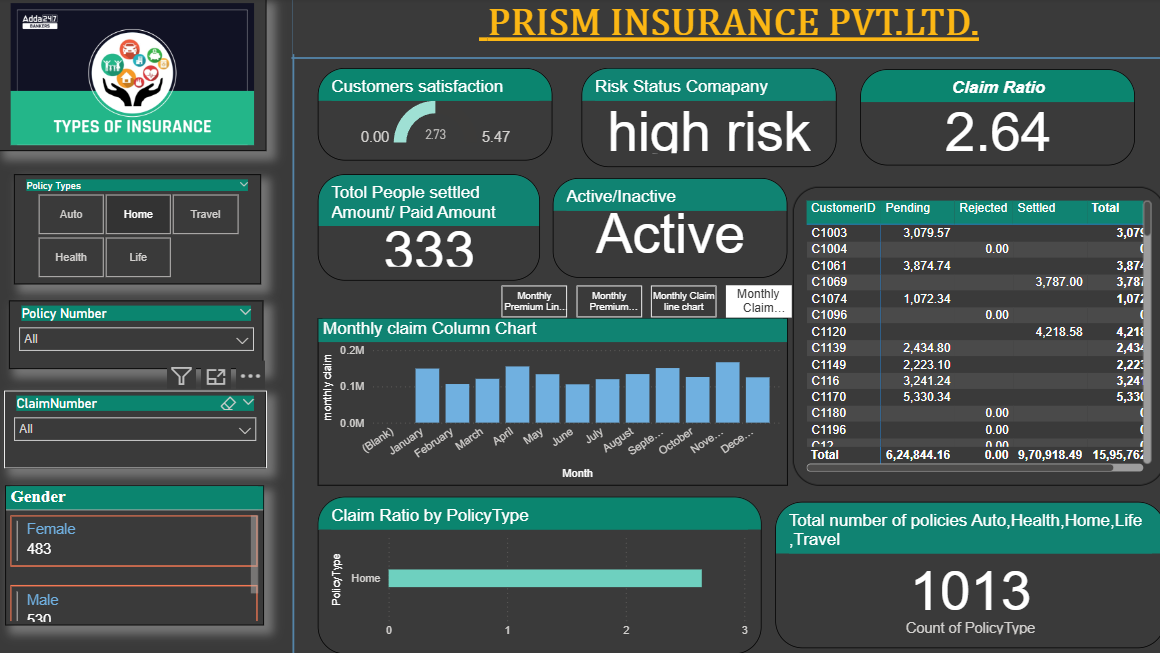

This screenshot's page, from the dashboard's own definition file:
{"tool":"powerbi","page":{"name":"Page 2","canvas":[1280,720],"ordinal":1},"visuals":[{"type":"image","box":[0,0,293.6,168.2],"z":0},{"type":"multiRowCard","title":"Gender ","fields":{"Values":["InsuranceData (1).Gender","CountNonNull(InsuranceData (1).Gender)"]},"box":[7.1,534.5,283.7,153.9],"z":1000},{"type":"shape","box":[181.1,0,284,720.4],"z":2000},{"type":"textbox","box":[322.5,0,957.8,61.7],"z":3000},{"type":"barChart","fields":{"Y":["InsuranceData (1).Claim Ratio"],"Category":["InsuranceData (1).PolicyType"]},"box":[349.9,547.5,487.1,172.9],"z":4000},{"type":"card","title":"Claim Ratio","fields":{"Values":["InsuranceData (1).Claim Ratio"]},"box":[945.5,78.2,301.9,105.7],"z":5000},{"type":"card","title":"Risk Status Comapany","fields":{"Values":["InsuranceData (1).Risk Status"]},"box":[639.5,76.8,279.9,108.4],"z":6000},{"type":"gauge","title":" Customers satisfaction","fields":{"Y":["InsuranceData (1).avg satisfaction"]},"box":[349.9,76.8,258,101.5],"z":7000},{"type":"slicer","title":"Policy Types","fields":{"Values":["InsuranceData (1).PolicyType"]},"box":[17.1,193.9,270.8,121.2],"z":8000},{"type":"slicer","title":"Policy Number","fields":{"Values":["InsuranceData (1).PolicyNumber"]},"box":[11.4,332.1,279.4,75.5],"z":9000},{"type":"slicer","title":"Claim Number ","fields":{"Values":["InsuranceData (1).ClaimNumber"]},"box":[5.7,430.5,287.9,85.5],"z":10000},{"type":"clusteredColumnChart","title":"Monthly claim Column Chart ","fields":{"Category":["InsuranceData (1).ClaimDate.Variation.Date Hierarchy.Month"],"Y":["InsuranceData (1).monthly claim"]},"box":[349.9,351.3,516,183.9],"z":12000},{"type":"card","title":"Total number of policies Auto,Health,Home,Life ,Travel","fields":{"Values":["CountNonNull(InsuranceData (1).PolicyType)"]},"box":[852.1,553,428.1,160.5],"z":13000},{"type":"card","title":"Totol People settled Amount/ Paid Amount","fields":{"Values":["InsuranceData (1).total people Paid Amount"]},"box":[349.9,193.5,244.3,116.6],"z":14000},{"type":"bookmarkNavigator","box":[551.6,315.6,319.7,35.7],"z":17000},{"type":"shape","box":[321.1,13.7,959.2,104.3],"z":18000},{"type":"pivotTable","fields":{"Rows":["InsuranceData (1).CustomerID"],"Values":["Sum(InsuranceData (1).ClaimAmount)"],"Columns":["InsuranceData (1).ClaimStatus"]},"box":[871.4,207.2,408.9,328],"z":19000},{"type":"card","title":"Active/Inactive","fields":{"Values":["Min(InsuranceData (1).Active /Inactive )"]},"box":[607.9,197.6,258,109.8],"z":20000}]}

Visuals, with their boxes in screenshot pixels (x1, y1, x2, y2), scaled from the page's 1280x720 canvas onto the 1160x653 screenshot:
image: x1=0 y1=0 x2=266 y2=153
"Gender " multiRowCard: x1=6 y1=485 x2=264 y2=624
shape: x1=164 y1=0 x2=421 y2=652
textbox: x1=292 y1=0 x2=1159 y2=56
barChart - InsuranceData (1).Claim Ratio x InsuranceData (1).PolicyType: x1=317 y1=497 x2=759 y2=652
"Claim Ratio" card: x1=857 y1=71 x2=1130 y2=167
"Risk Status Comapany" card: x1=580 y1=70 x2=833 y2=168
" Customers satisfaction" gauge: x1=317 y1=70 x2=551 y2=162
"Policy Types" slicer: x1=15 y1=176 x2=261 y2=286
"Policy Number" slicer: x1=10 y1=301 x2=264 y2=370
"Claim Number " slicer: x1=5 y1=390 x2=266 y2=468
"Monthly claim Column Chart " clusteredColumnChart: x1=317 y1=319 x2=785 y2=485
"Total number of policies Auto,Health,Home,Life ,Travel" card: x1=772 y1=502 x2=1159 y2=647
"Totol People settled Amount/ Paid Amount" card: x1=317 y1=175 x2=538 y2=281
bookmarkNavigator: x1=500 y1=286 x2=790 y2=319
shape: x1=291 y1=12 x2=1159 y2=107
pivotTable - InsuranceData (1).CustomerID x Sum(InsuranceData (1).ClaimAmount): x1=790 y1=188 x2=1159 y2=485
"Active/Inactive" card: x1=551 y1=179 x2=785 y2=279
